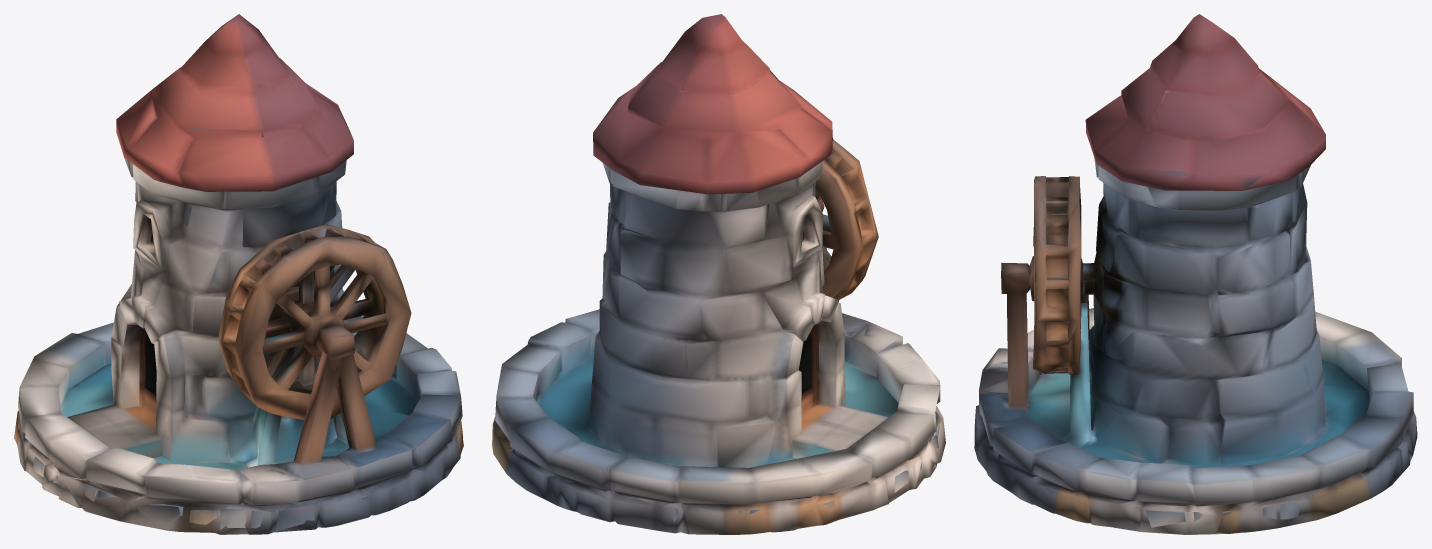
File: degirmen.glb
The picture shows the model from 3 angles, left to right: view 1: azimuth 30°, elevation 25°; view 2: azimuth 150°, elevation 25°; view 3: azimuth 270°, elevation 25°; orthographic projection.
Parts seen in each view (by area): view 1: node_0; view 2: node_0; view 3: node_0.
Boxes of the visible parts, x1,y1,x2,y2 form: node_0: (14,14,463,534); node_0: (492,14,945,534); node_0: (974,14,1417,534).
Size of the model in its own units: 0.8355 by 0.8617 by 0.8189.
1 material, 1 textured.
